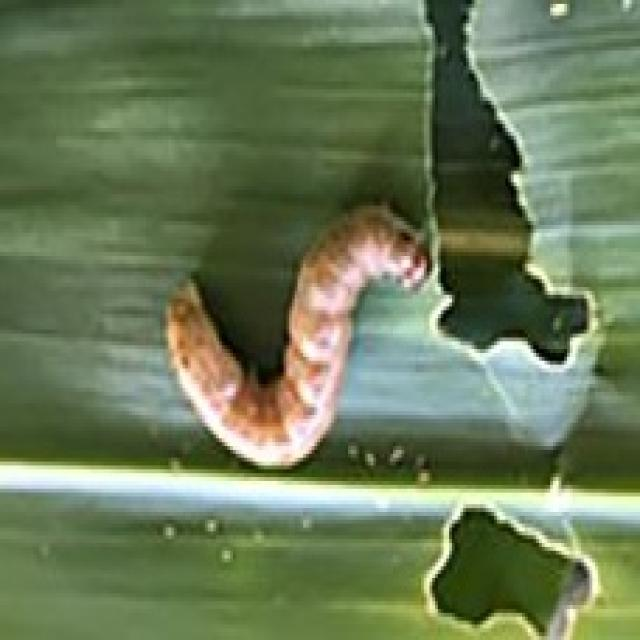army worm: (155, 197, 436, 480)
